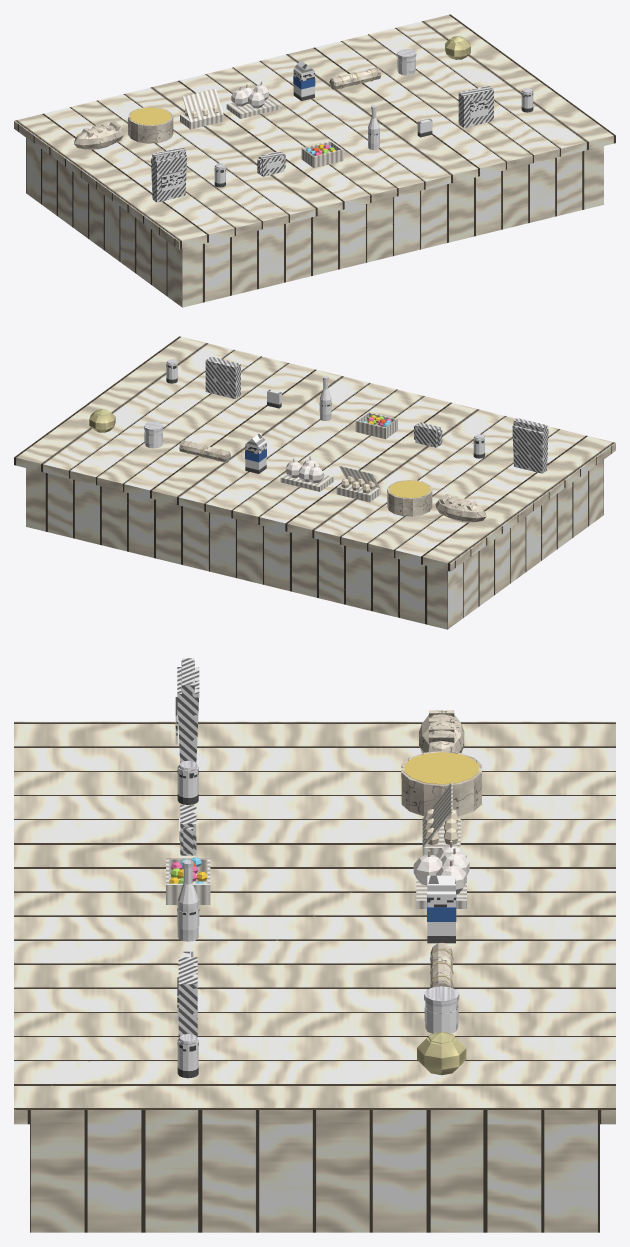
The model's file is tavolo_prodotti.obj.
3 views of the same model, one above another, from view 1: azimuth 30°, elevation 25°; view 2: azimuth 150°, elevation 25°; view 3: azimuth 270°, elevation 25° (orthographic). The views are drawn at different scales.
Visible parts, largest first — view 1: legno_001, legno_000, stampa_b_023, stampa_b_041, cartone_008, crosta_002, cartone_030, crosta_004, crosta_016, stampa_a_014, liscio_006, cartone_010 (+3 smaller); view 2: legno_001, legno_000, stampa_b_023, stampa_b_041, crosta_002, cartone_030, crosta_004, crosta_016, stampa_b_028, liscio_006, stampa_a_014, pelle_011 (+3 smaller); view 3: legno_001, legno_000, stampa_b_023, liscio_006, crosta_004, stampa_a_014, stampa_b_041, erba_021, crosta_002, cartone_030, pelle_011, vetro_036 (+6 smaller).
Part boxes in pixels (x1,y1,x2,y2): legno_001: (14,14,615,249); legno_000: (26,138,603,307); stampa_b_023: (151,147,186,202); stampa_b_041: (458,85,493,127); cartone_008: (182,88,223,122); crosta_002: (74,125,124,149); cartone_030: (301,141,343,167); crosta_004: (128,120,173,143); crosta_016: (329,67,380,89); stampa_a_014: (293,60,314,100); liscio_006: (130,107,171,125); cartone_010: (226,97,279,118); legno_001: (14,336,615,571); legno_000: (26,460,603,629); stampa_b_023: (512,418,548,473); stampa_b_041: (205,356,240,399); crosta_002: (435,498,486,522); cartone_030: (355,412,397,439); crosta_004: (387,493,432,516); crosta_016: (179,440,230,462); stampa_b_028: (414,422,442,447); liscio_006: (389,480,430,497); stampa_a_014: (245,433,266,473); pelle_011: (286,461,323,483); legno_001: (14,721,615,1124); legno_000: (30,1124,599,1232); stampa_b_023: (177,658,199,762); liscio_006: (404,752,478,784); crosta_004: (401,779,481,816); stampa_a_014: (427,875,455,943); stampa_b_041: (178,957,197,1037); erba_021: (417,1034,466,1075); crosta_002: (419,710,464,753); cartone_030: (166,858,210,904); pelle_011: (436,845,469,894); vetro_036: (177,867,198,941).
Bounding box in the file's own units: 2.9 × 0.74 × 1.9.
Materials: 42 (33 with a texture image).
